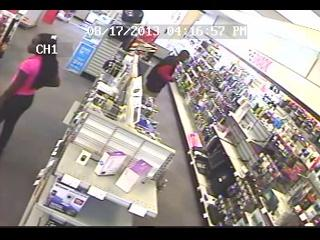Normal: (0, 34, 61, 156), (142, 50, 190, 106)
